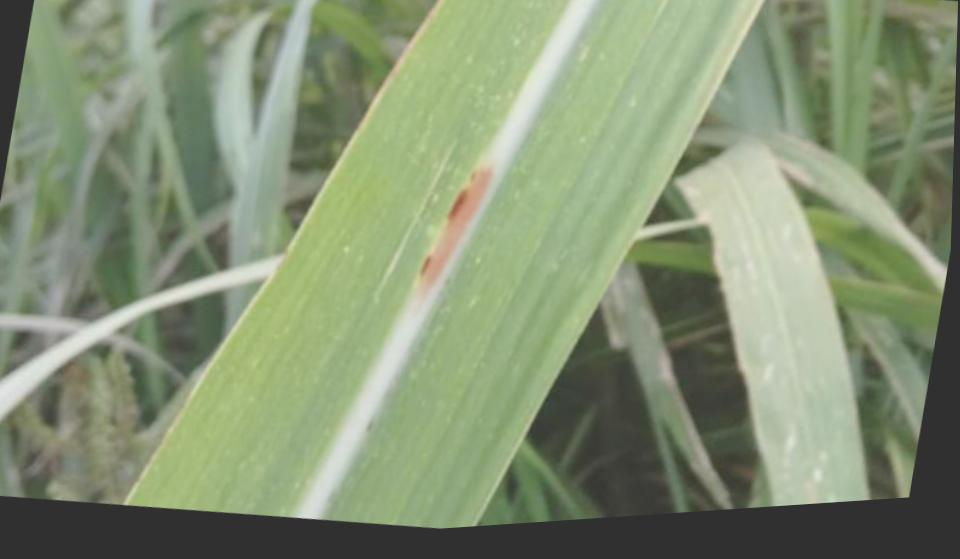RedRot: (412, 161, 500, 302)
